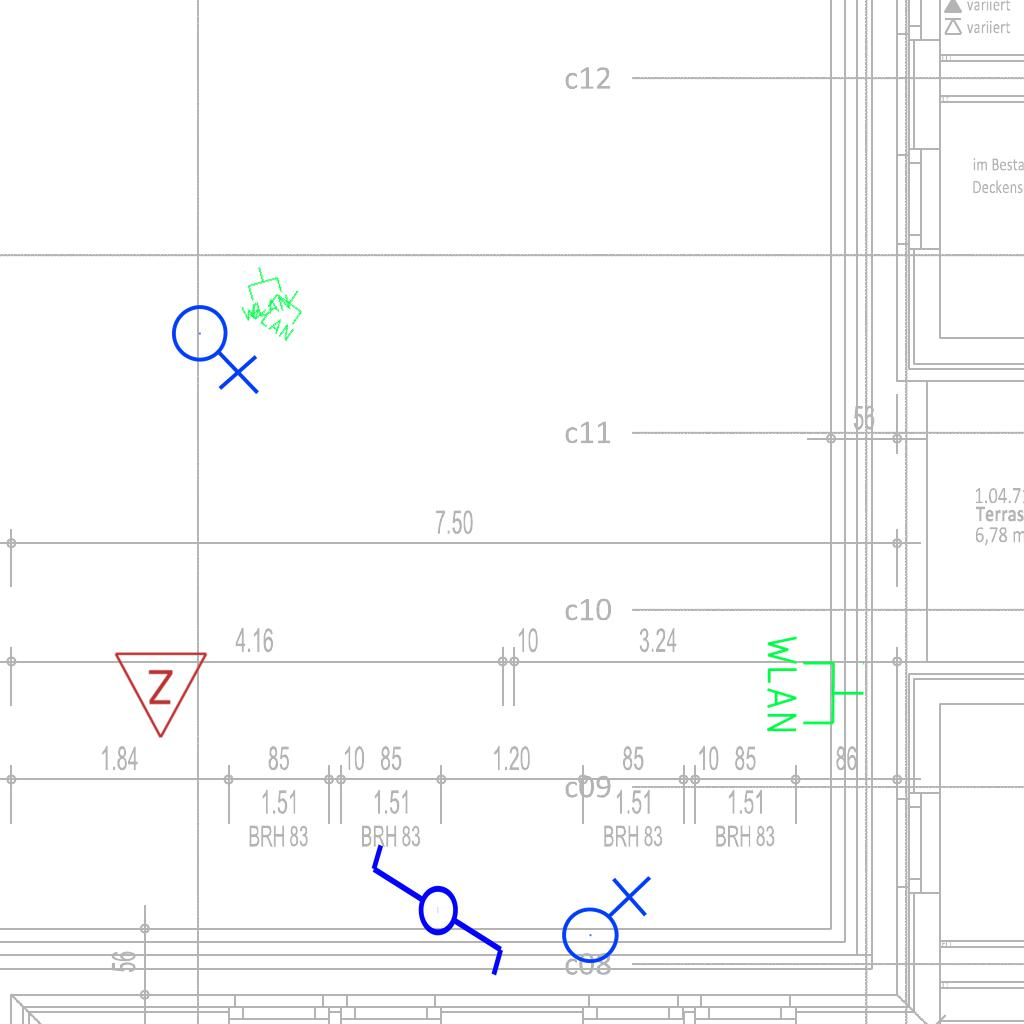Elektroanschluss_allgemein_230V_Geraeteanschlussdose_230V: (553, 871, 652, 965), (170, 296, 264, 395)
WLAN: (763, 631, 867, 736), (243, 271, 317, 345), (228, 259, 294, 325)
Wechselschalter: (364, 840, 508, 997)
Zimmersignalleuchte: (113, 645, 211, 745)
